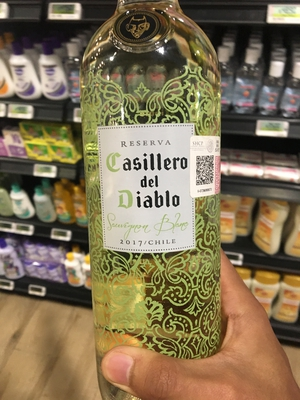casillero del diablo sauvignon blanc: (77, 6, 236, 390)
